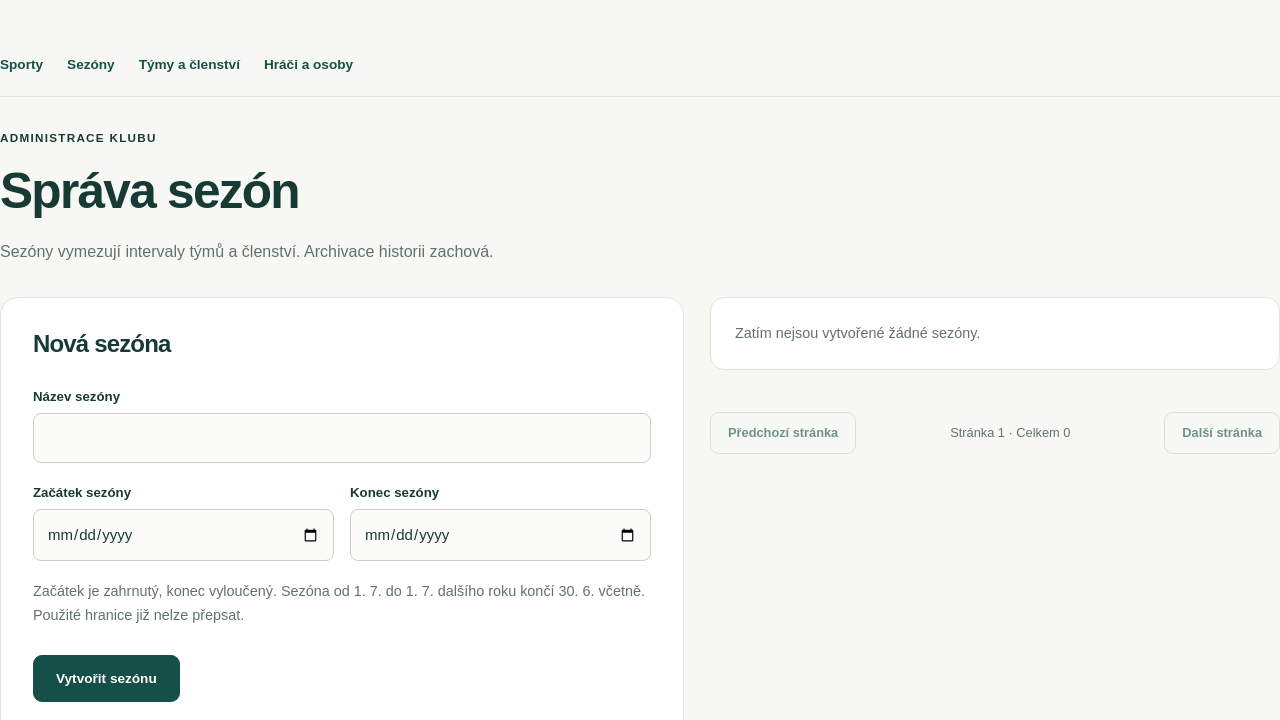
it: P2 přístup a formuláře › vytvoří sezónu a archivuje ji teprve po potvrzení, bez DELETE
expect the text "Zatím nejsou vytvořené žádné sezóny." is shown: met, box left=735, top=325, right=980, bottom=341
Type "2026/2027" into the field labelled "Název sezóny".
click(342, 438); type("2026/2027")  # box left=33, top=413, right=651, bottom=463
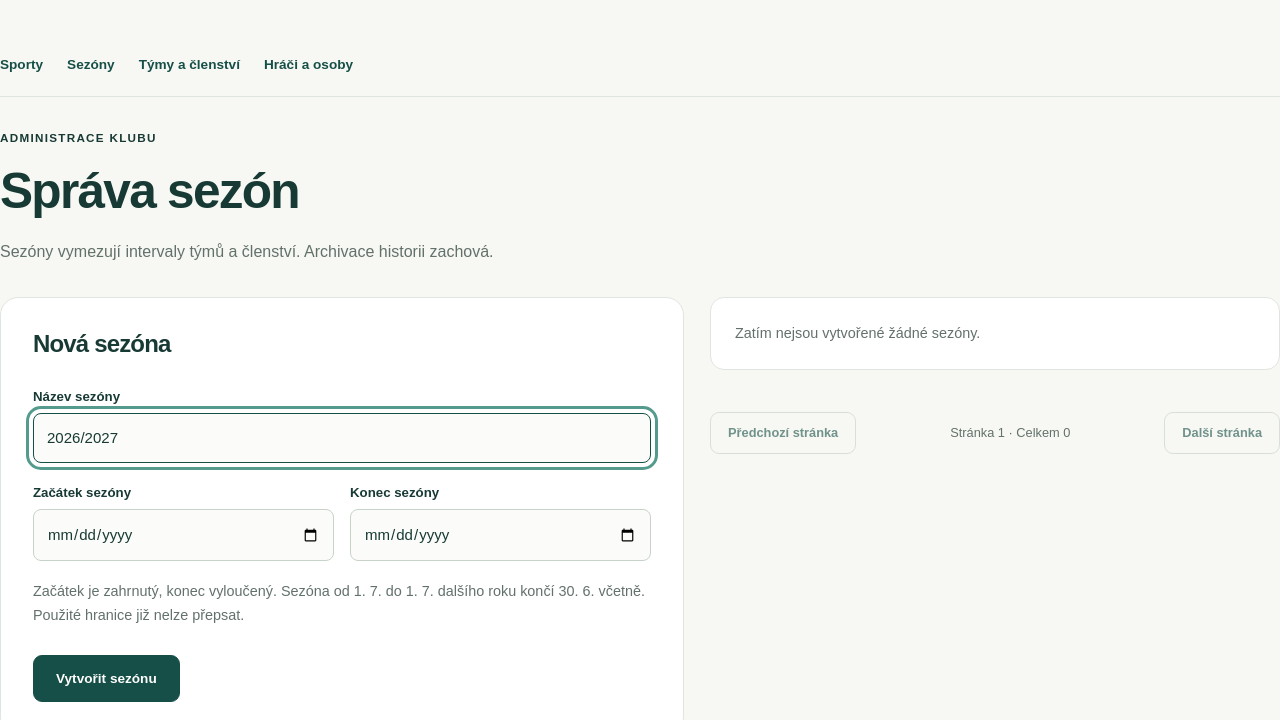
Type "2026-07-01" into the date field labelled "Začátek sezóny".
click(184, 535); type("2026-07-01")  # box left=33, top=509, right=334, bottom=562
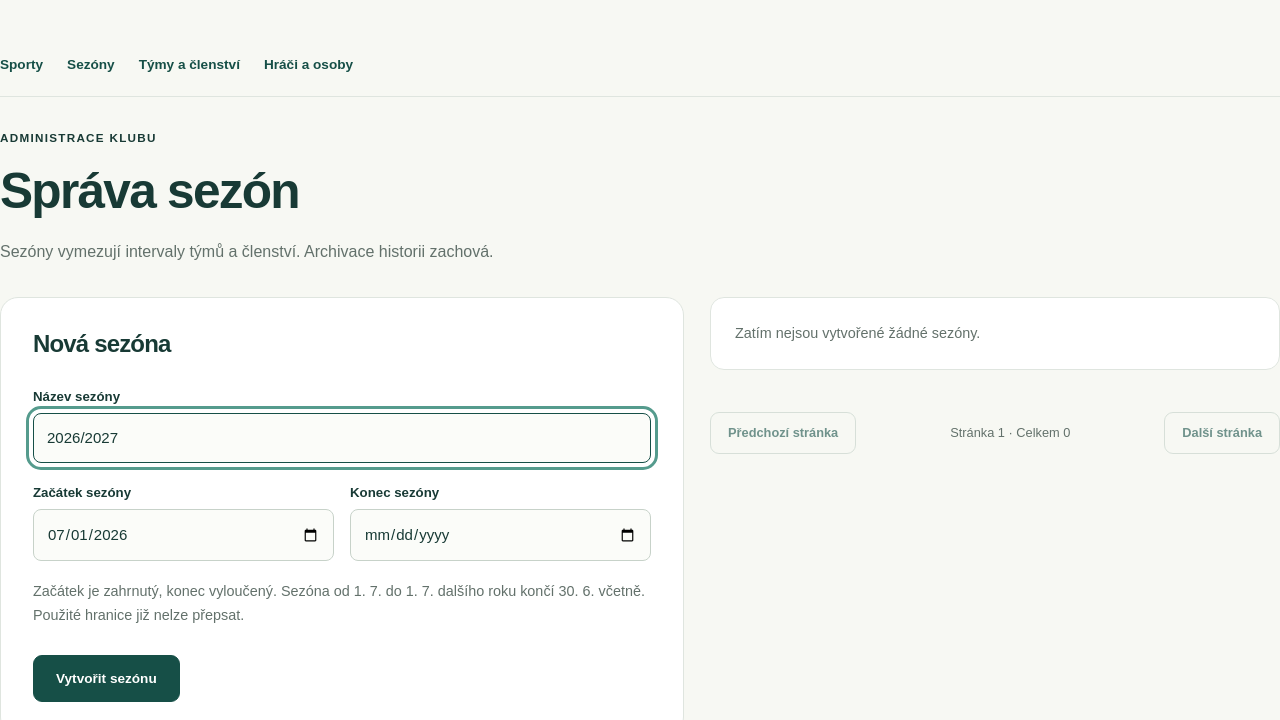
Type "2027-07-01" into the date field labelled "Konec sezóny".
click(500, 535); type("2027-07-01")  # box left=350, top=509, right=651, bottom=562
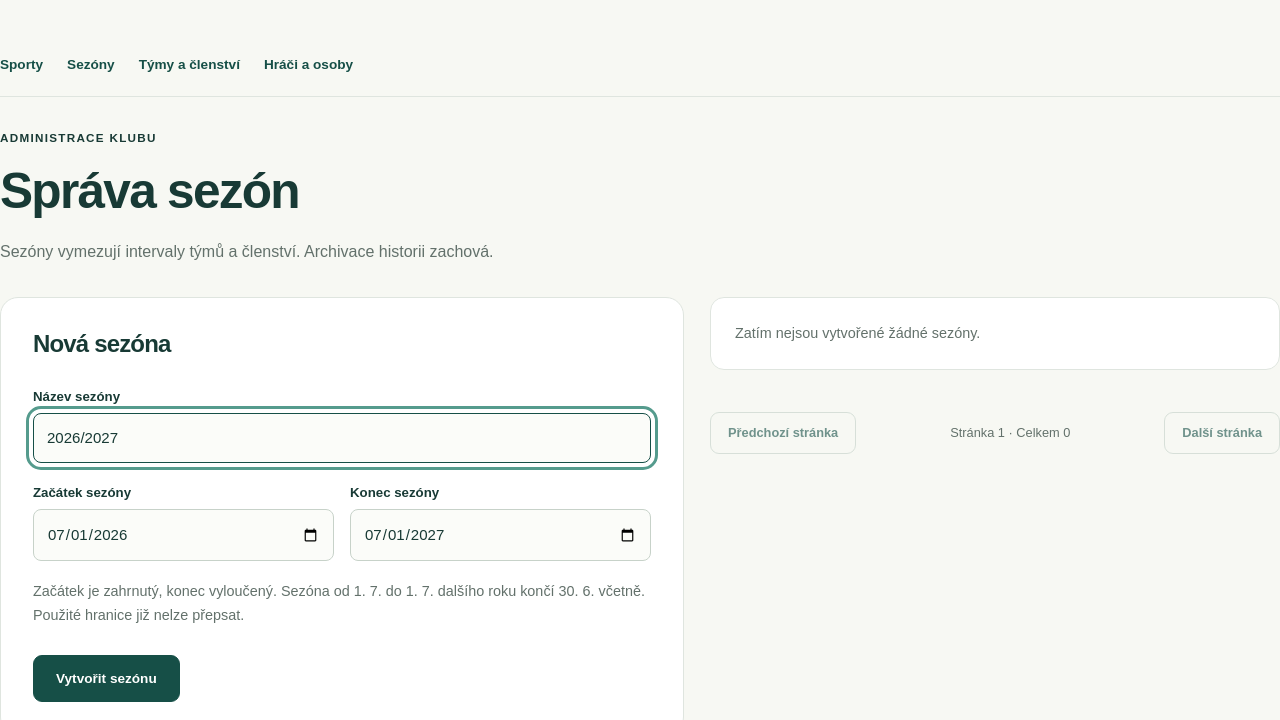
Click the button "Vytvořit sezónu".
click(106, 678)  # box left=33, top=655, right=180, bottom=702
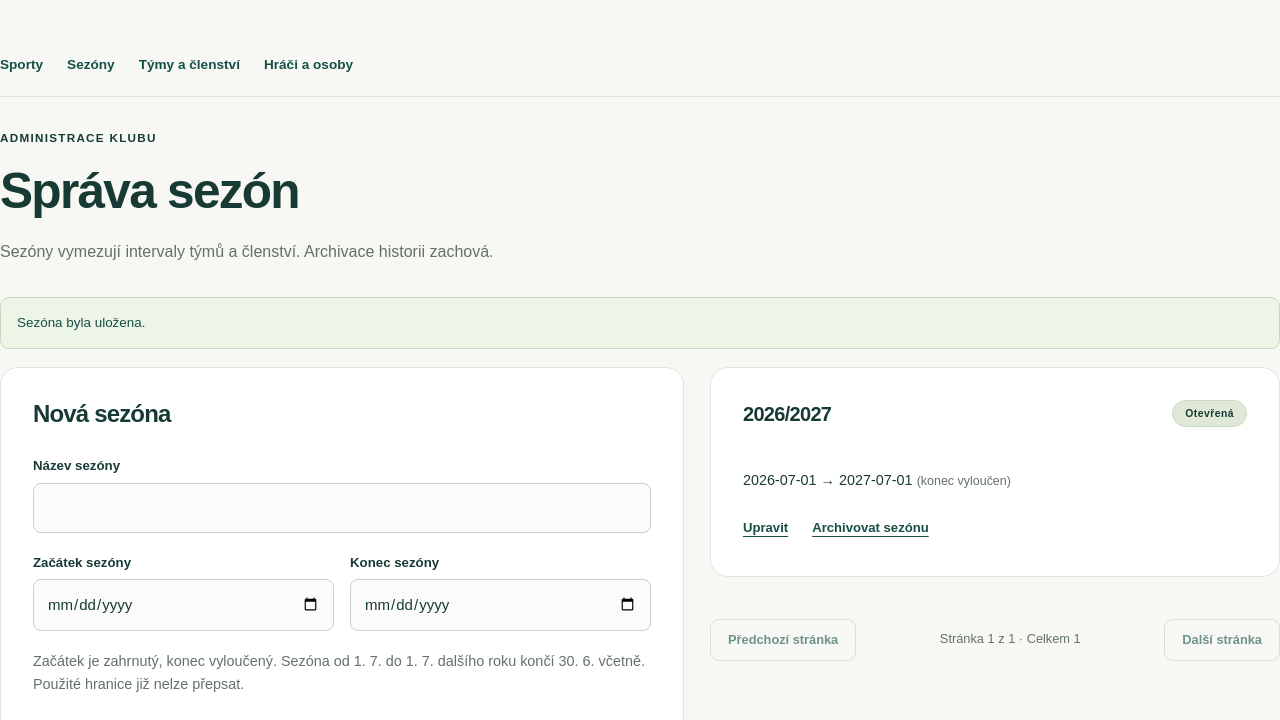
Click the button "Archivovat sezónu".
click(870, 527)  # box left=812, top=511, right=929, bottom=544
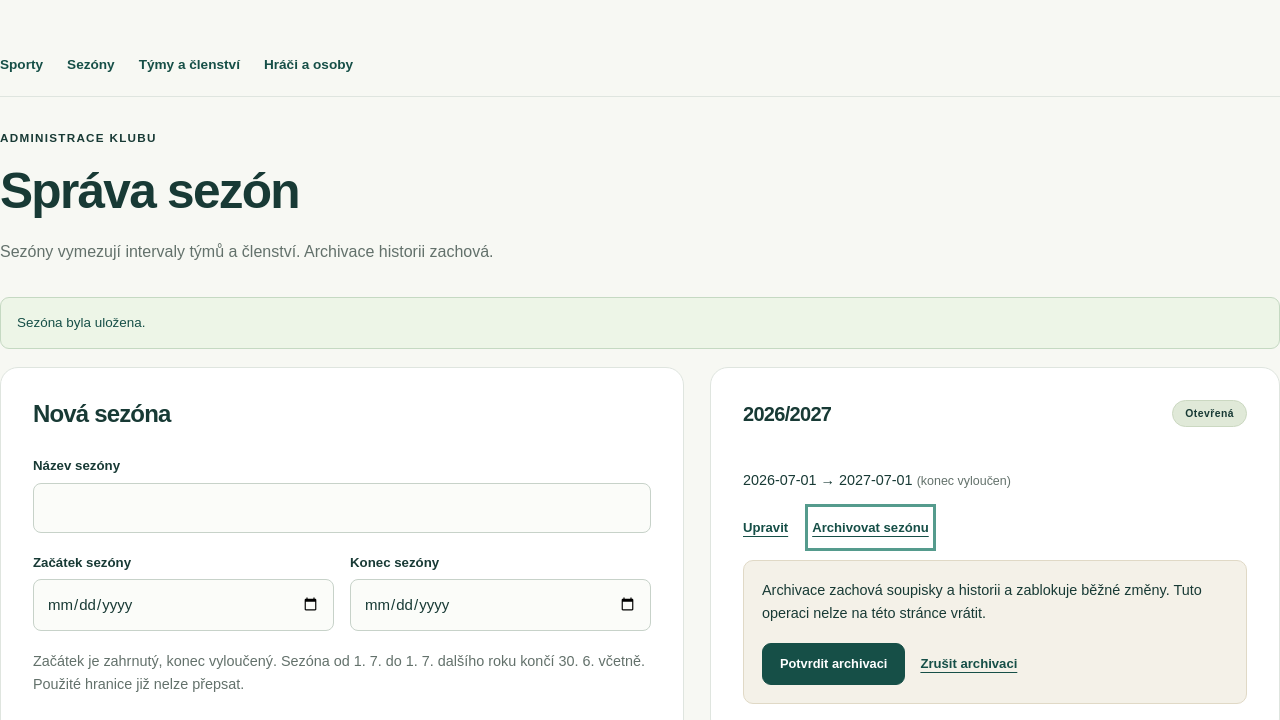
Click the button "Potvrdit archivaci".
click(834, 664)  # box left=762, top=643, right=905, bottom=685
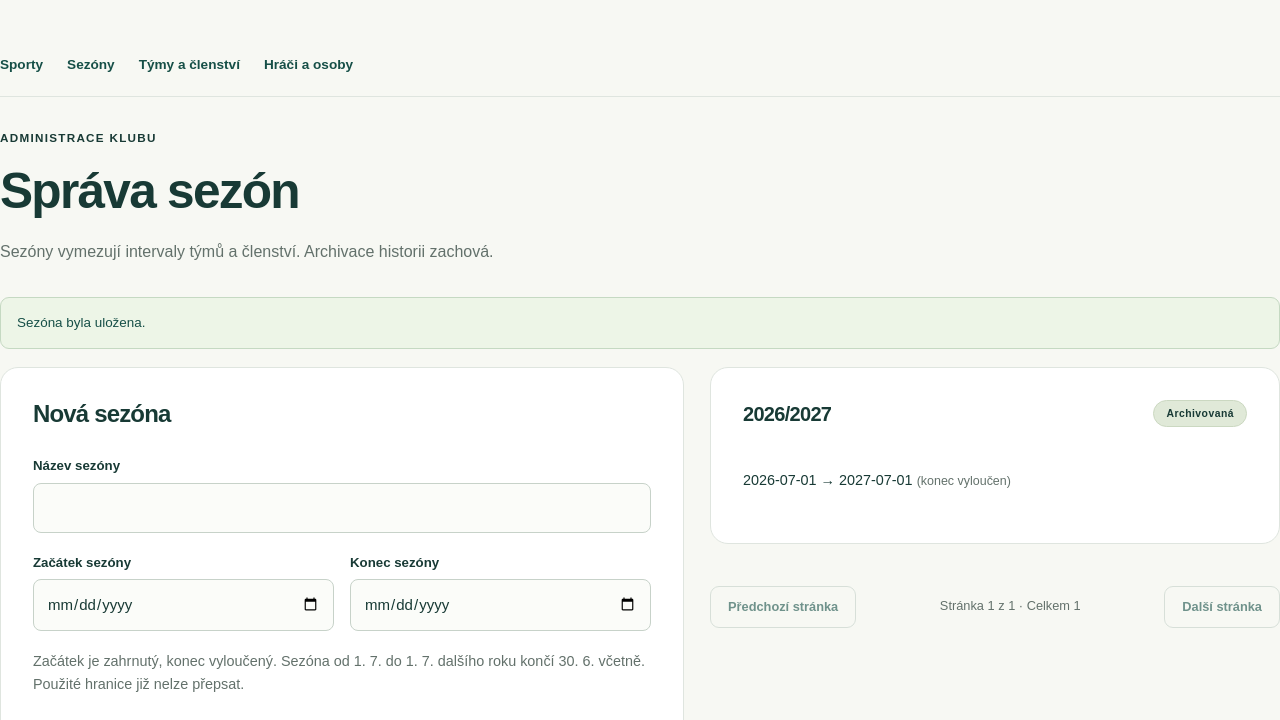
expect the text "Archivovaná" is shown: met, box left=1154, top=400, right=1247, bottom=427
expect the button "Upravit" is gone: met
